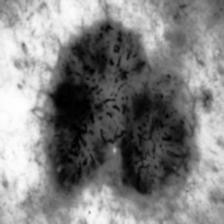Potentially Malignant Skin Tumors: (43, 14, 195, 197)
